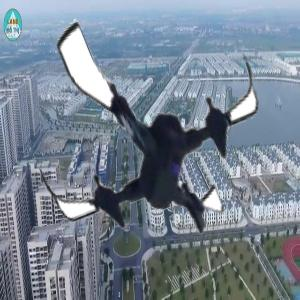drone: (20, 1, 273, 254)
